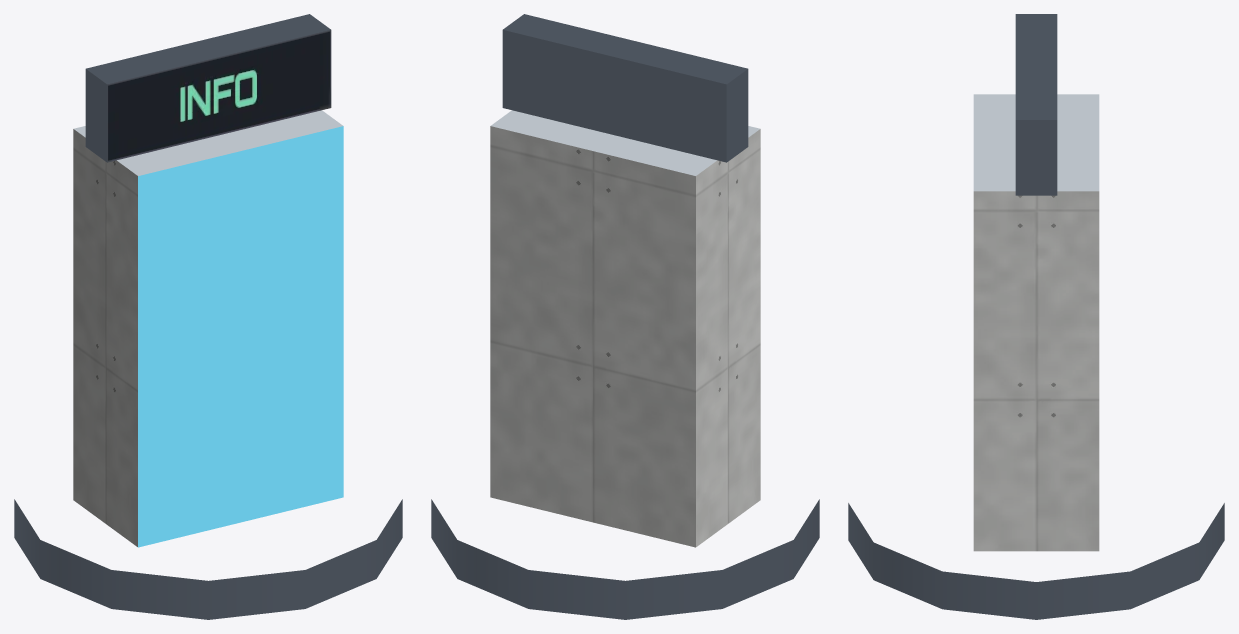
Rendered from prop_info_kiosk.glb.
3 views of the same model, side by side, from view 1: azimuth 30°, elevation 25°; view 2: azimuth 150°, elevation 25°; view 3: azimuth 270°, elevation 25° (orthographic). The views are drawn at different scales.
Visible parts, largest first — view 1: prop_info_kiosk_LOD0; view 2: prop_info_kiosk_LOD0; view 3: prop_info_kiosk_LOD0.
Boxes of the visible parts, <box> form: prop_info_kiosk_LOD0: <box>14,14,402,619</box>; prop_info_kiosk_LOD0: <box>431,14,819,619</box>; prop_info_kiosk_LOD0: <box>848,14,1224,619</box>.
Size of what is drawn, in the model's own units: 1.8 by 2.5 by 1.8.
Materials: 2 (2 with a texture image).
